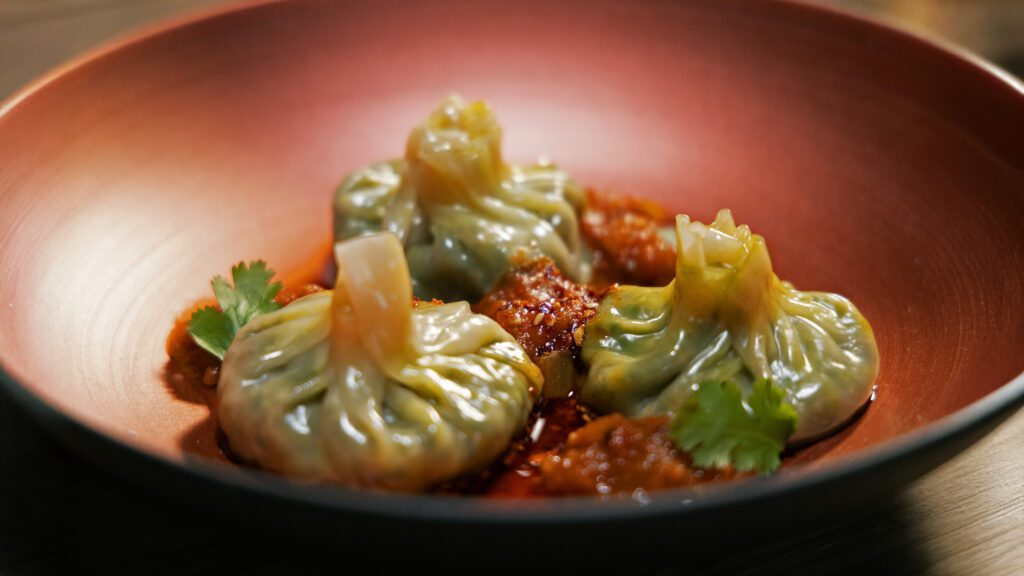momo: (219, 233, 536, 496), (594, 200, 874, 445), (329, 92, 591, 280)
